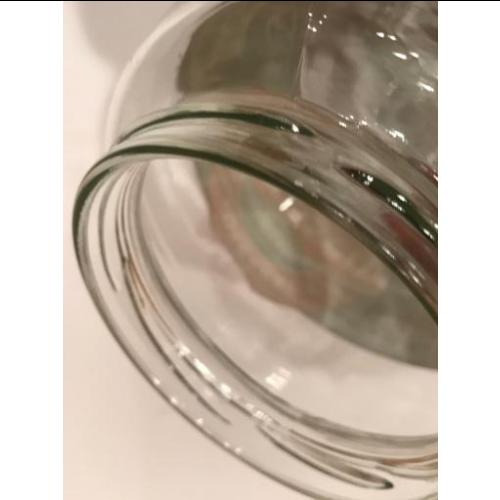glass: (70, 0, 439, 500)
